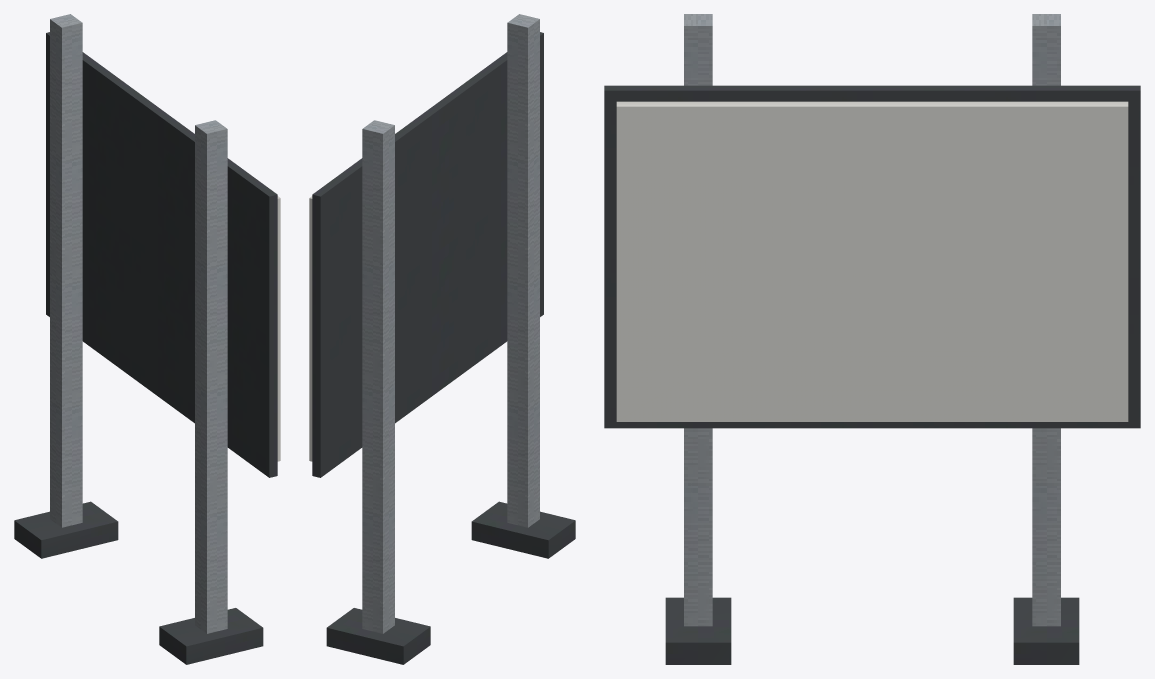
File: zone-board_far.glb
3 views of the same model, side by side, from view 1: azimuth 30°, elevation 25°; view 2: azimuth 150°, elevation 25°; view 3: azimuth 270°, elevation 25° (orthographic). The views are drawn at different scales.
Visible parts, largest first — view 1: dark-steel, galvanised, board-face; view 2: dark-steel, galvanised, board-face; view 3: board-face, dark-steel, galvanised.
Boxes of the visible parts, x1,y1,x2,y2 form: dark-steel: (14,32,277,664); galvanised: (50,14,227,633); board-face: (277,196,280,461); dark-steel: (312,32,575,664); galvanised: (362,14,539,633); board-face: (309,196,312,461); board-face: (616,101,1128,421); dark-steel: (604,85,1140,664); galvanised: (684,14,1060,626).
Size of the model in its own units: 0.26 by 1.68 by 1.31.
Materials: 3 (2 with a texture image).
